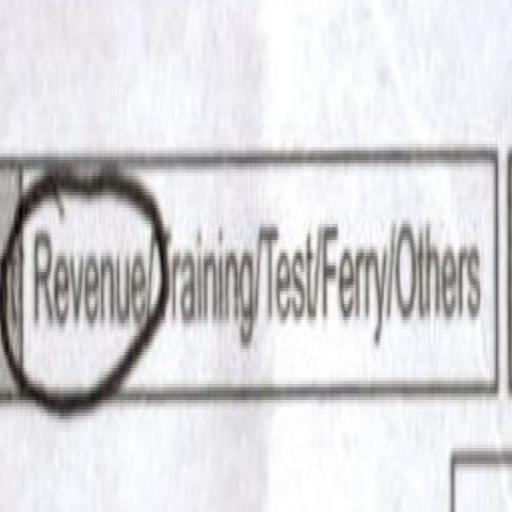check: (27, 112, 159, 446)
